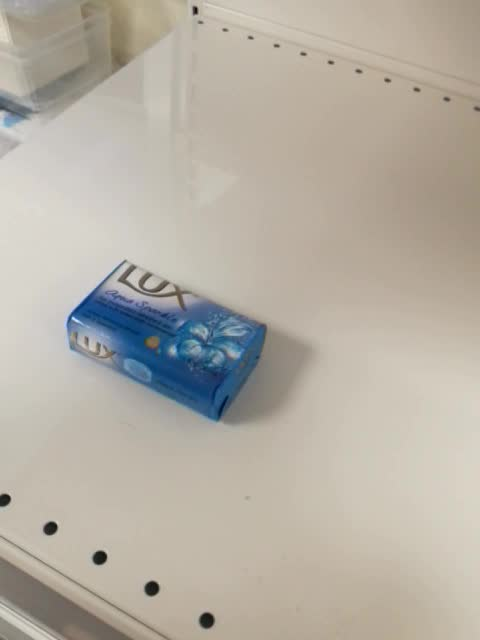soap: (66, 259, 269, 424)
